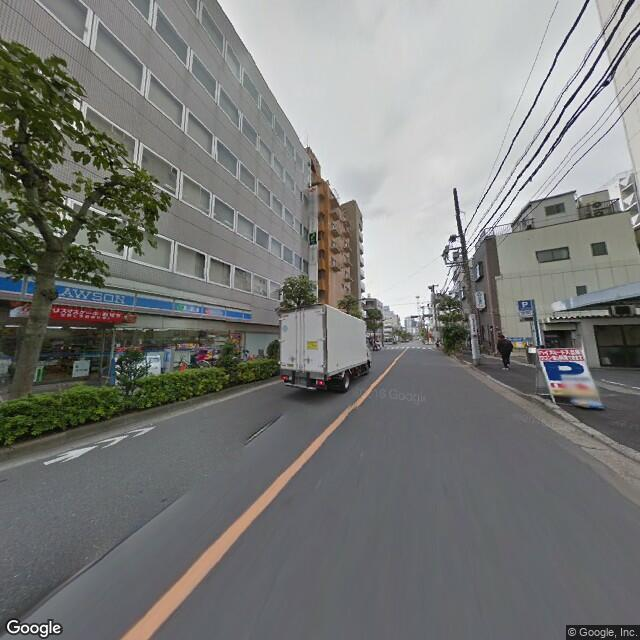lawson: (1, 271, 253, 326)
